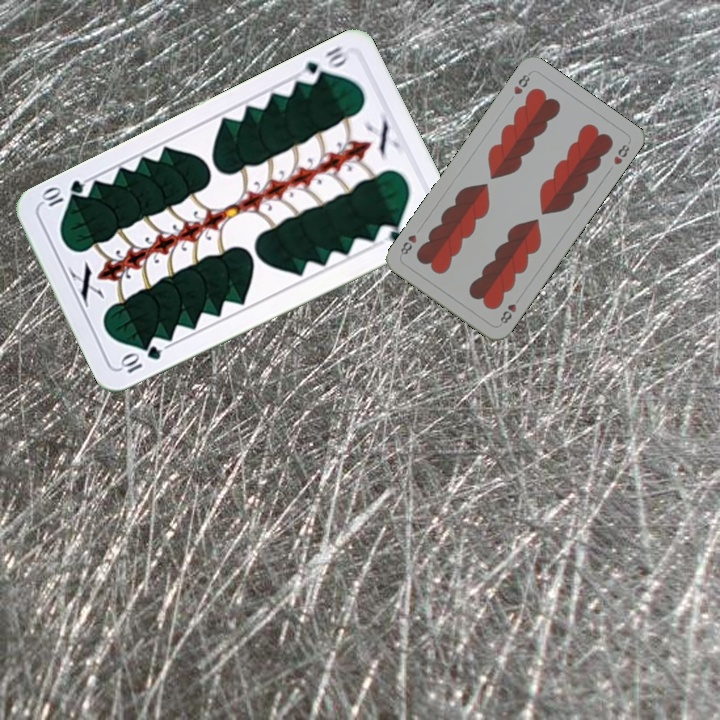G10: (294, 42, 350, 87), (116, 342, 164, 376)
H8: (496, 292, 523, 326), (509, 68, 533, 97)
